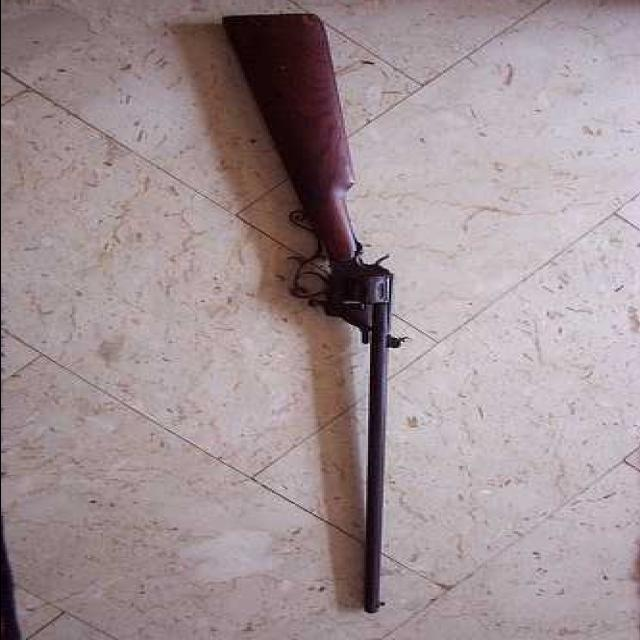heavyweapon: (197, 6, 459, 628)
